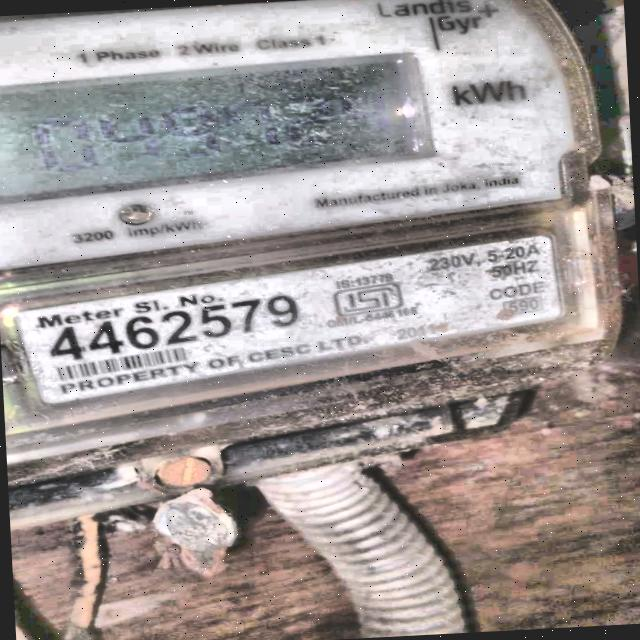Reading: (17, 86, 413, 181)
Serial No.: (42, 292, 306, 366)
